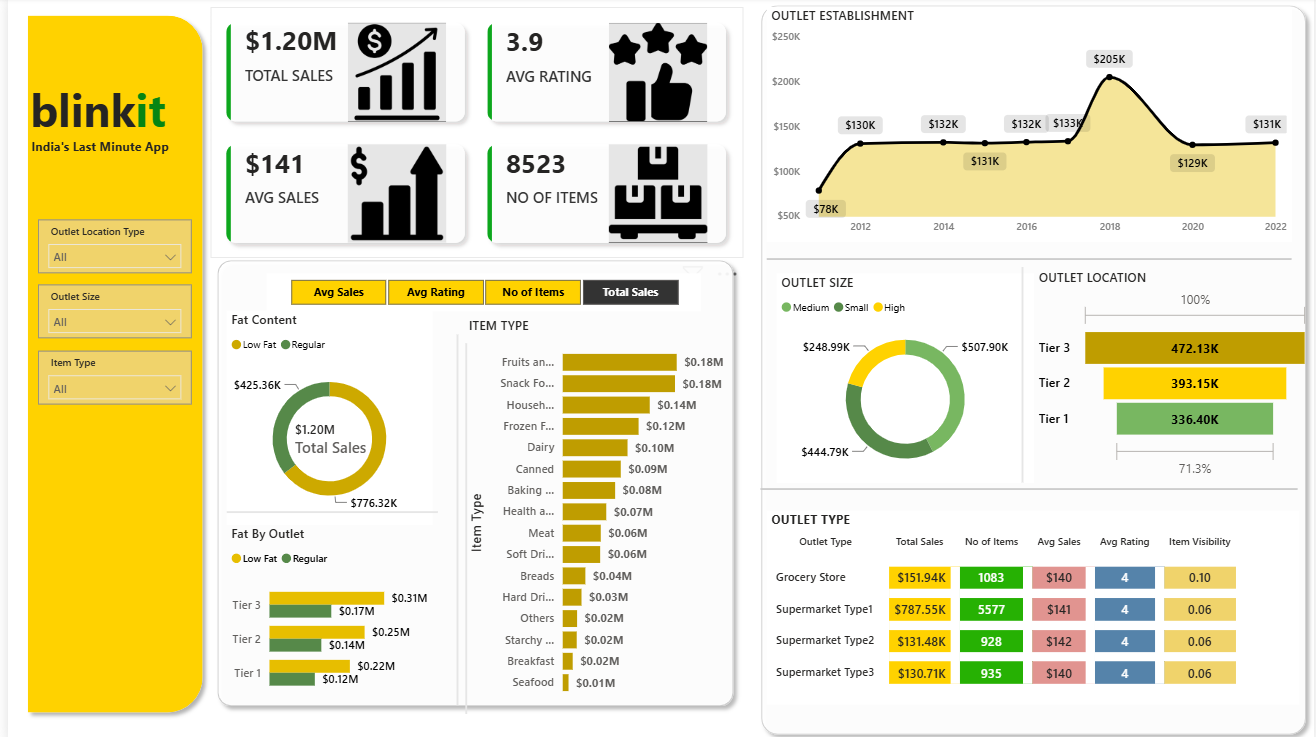

This screenshot's page, from the dashboard's own definition file:
{"tool":"powerbi","page":{"name":"Page 1","canvas":[1400,800],"ordinal":0},"visuals":[{"type":"shape","box":[12,10.5,205.6,765.4],"z":0},{"type":"textbox","box":[253.4,635.4,249.3,104.6],"z":1000},{"type":"textbox","box":[18.8,83.1,168.9,83.1],"z":2000},{"type":"textbox","box":[19.5,145.6,490.8,93.1],"z":3000},{"type":"cardVisual","fields":{"Data":["BlinkIT Grocery Data.Total Sales","BlinkIT Grocery Data.Avg Rating","BlinkIT Grocery Data.Avg Sales","BlinkIT Grocery Data.No of Items"]},"box":[217.6,10.5,570.3,270.2],"z":4000},{"type":"shape","box":[215.8,273.5,571,496],"z":5000},{"type":"donutChart","title":"Fat Content","fields":{"Y":["BlinkIT Grocery Data.Total Sales"],"Category":["BlinkIT Grocery Data.Item Fat Content"]},"box":[234.1,336.2,220.6,229.6],"z":6000},{"type":"slicer","fields":{"Values":["Parameter.Parameter"]},"box":[277.7,295.7,465.3,40.5],"z":7000},{"type":"cardVisual","fields":{"Data":["BlinkIT Grocery Data.Total Sales"]},"box":[291.2,436.8,163.6,73.5],"z":8000},{"type":"clusteredBarChart","title":"Fat By Outlet","fields":{"Y":["BlinkIT Grocery Data.Total Sales"],"Category":["BlinkIT Grocery Data.Outlet Location Type"],"Series":["BlinkIT Grocery Data.Item Fat Content"]},"box":[234.1,565.8,220.6,193.6],"z":9000},{"type":"shape","box":[234.1,538.8,226.6,27],"z":10000},{"type":"shape","box":[474.3,361.7,15,397.7],"z":11000},{"type":"barChart","title":"ITEM TYPE","fields":{"Y":["BlinkIT Grocery Data.Total Sales"],"Category":["BlinkIT Grocery Data.Item Type"]},"box":[489.3,343.7,283.7,415.7],"z":12000},{"type":"shape","box":[798.5,0,601.8,800],"z":13000},{"type":"lineChart","title":"OUTLET ESTABLISHMENT","fields":{"Y":["BlinkIT Grocery Data.Total Sales"],"Category":["BlinkIT Grocery Data.Outlet Establishment Year"]},"box":[813.5,10.5,562.8,252.1],"z":14000},{"type":"shape","box":[813.5,109.6,562.8,342.2],"z":15000},{"type":"donutChart","title":"OUTLET SIZE","fields":{"Y":["BlinkIT Grocery Data.Total Sales"],"Category":["BlinkIT Grocery Data.Outlet Size"]},"box":[824,295.7,276.2,225.1],"z":16000},{"type":"funnel","title":"OUTLET LOCATION","fields":{"Y":["Sum(BlinkIT Grocery Data.Sales)"],"Category":["BlinkIT Grocery Data.Outlet Location Type"]},"box":[1100.1,291.2,300.2,229.6],"z":17000},{"type":"shape","box":[807.5,357.2,576.3,342.2],"z":18000},{"type":"shape","box":[1080.6,289.7,15,231.1],"z":19000},{"type":"pivotTable","title":"OUTLET TYPE","fields":{"Rows":["BlinkIT Grocery Data.Outlet Type"],"Values":["BlinkIT Grocery Data.Total Sales","BlinkIT Grocery Data.No of Items","BlinkIT Grocery Data.Avg Sales","BlinkIT Grocery Data.Avg Rating","Avg(BlinkIT Grocery Data.Item Visibility)"]},"box":[813.1,551.5,570.8,208.1],"z":20000},{"type":"slicer","fields":{"Values":["BlinkIT Grocery Data.Item Type"]},"box":[32.4,379.5,164.7,57.4],"z":21000},{"type":"shape","box":[484.3,371.7,15,397.7],"z":22000},{"type":"slicer","fields":{"Values":["BlinkIT Grocery Data.Outlet Size"]},"box":[32.4,308.9,164.7,57.4],"z":22001},{"type":"slicer","fields":{"Values":["BlinkIT Grocery Data.Outlet Location Type"]},"box":[32.4,238.3,164.7,57.4],"z":22002}]}

Visuals, with their boxes in screenshot pixels (x1, y1, x2, y2), scaled from the page's 1400x800 canvas onto the 1316x737 screenshot:
shape: region(11, 10, 205, 715)
textbox: region(238, 585, 473, 682)
textbox: region(18, 77, 176, 153)
textbox: region(18, 134, 480, 220)
cardVisual - BlinkIT Grocery Data.Total Sales x BlinkIT Grocery Data.Avg Rating: region(205, 10, 741, 259)
shape: region(203, 252, 740, 709)
"Fat Content" donutChart: region(220, 310, 427, 521)
slicer - Parameter.Parameter: region(261, 272, 698, 310)
cardVisual - BlinkIT Grocery Data.Total Sales: region(274, 402, 428, 470)
"Fat By Outlet" clusteredBarChart: region(220, 521, 427, 700)
shape: region(220, 496, 433, 521)
shape: region(446, 333, 460, 700)
"ITEM TYPE" barChart: region(460, 317, 727, 700)
shape: region(751, 0, 1315, 736)
"OUTLET ESTABLISHMENT" lineChart: region(765, 10, 1294, 242)
shape: region(765, 101, 1294, 416)
"OUTLET SIZE" donutChart: region(775, 272, 1034, 480)
"OUTLET LOCATION" funnel: region(1034, 268, 1315, 480)
shape: region(759, 329, 1301, 644)
shape: region(1016, 267, 1030, 480)
"OUTLET TYPE" pivotTable: region(764, 508, 1301, 700)
slicer - BlinkIT Grocery Data.Item Type: region(30, 350, 185, 402)
shape: region(455, 342, 469, 709)
slicer - BlinkIT Grocery Data.Outlet Size: region(30, 285, 185, 337)
slicer - BlinkIT Grocery Data.Outlet Location Type: region(30, 220, 185, 272)
